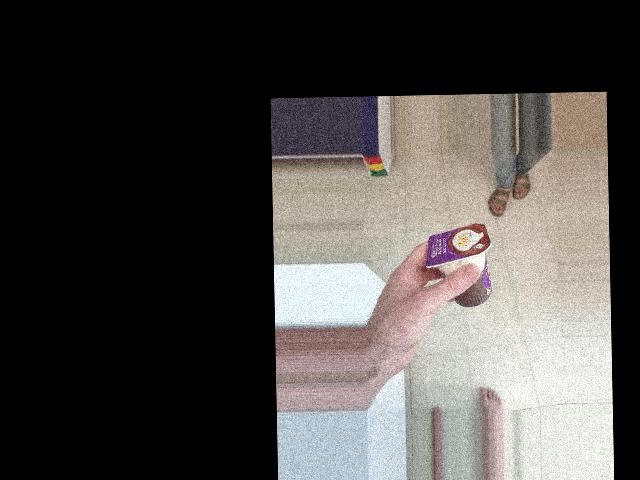milky: (435, 216, 523, 279)
